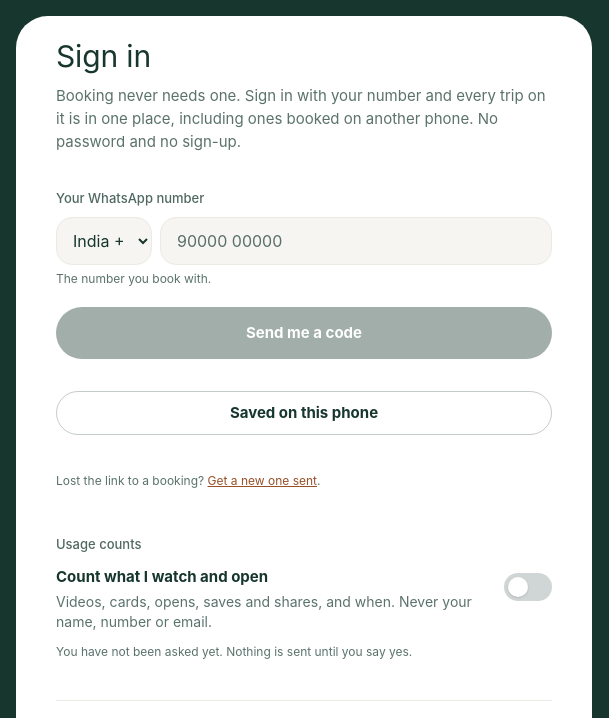
Scenario: what it says when something goes wrong › says a rate limit is not the traveller's fault
The width and height of the screenshot is (609, 718).
Type "9000000000" into the field labelled "Your WhatsApp number" at (356, 241), box [160,217,552,265]
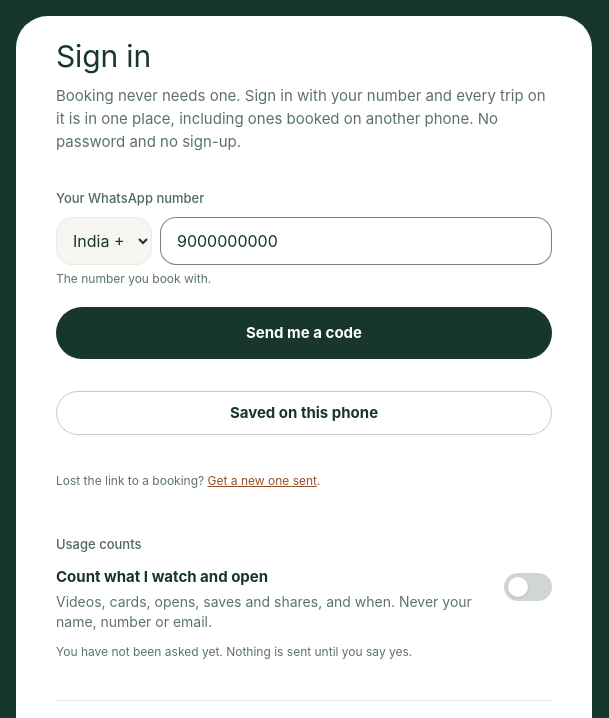
Click the button "Send me a code" at (304, 333), box [56,307,552,359]
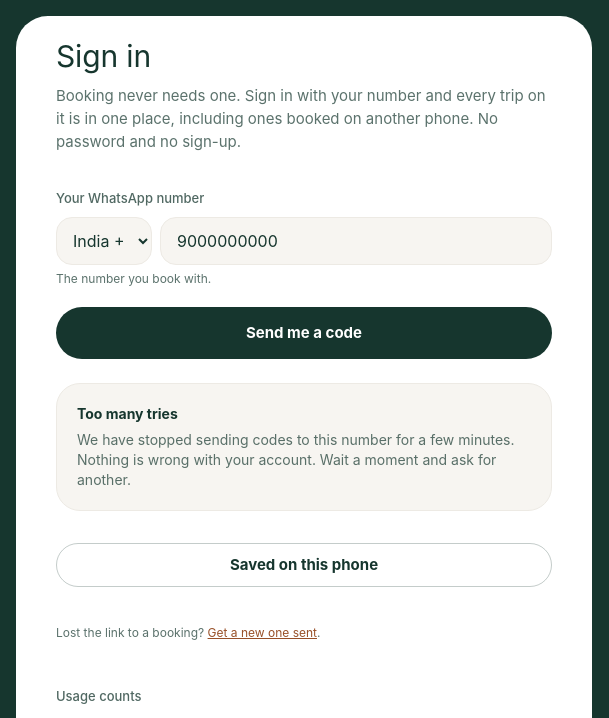
Expected: the text "Too many tries" is shown, [77,405,178,422]
Expected: the text "Nothing is wrong with your account" is shown, [77,431,514,488]
